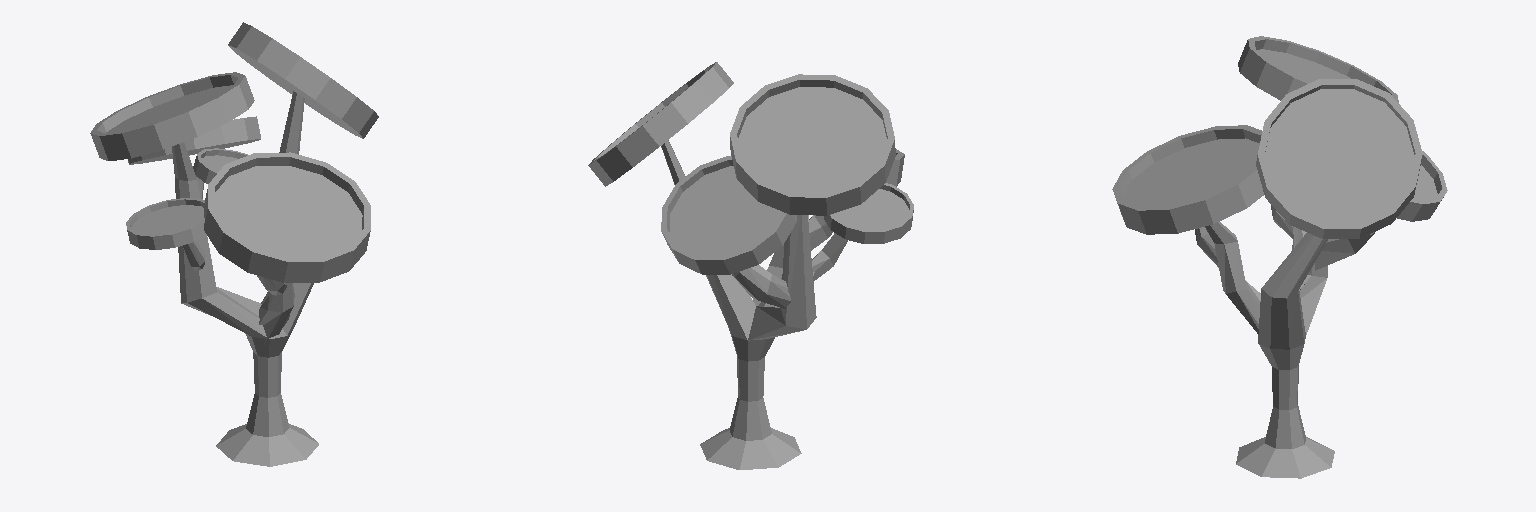
The model's file is tree5.obj.
3 views of the same model, side by side, from view 1: azimuth 30°, elevation 25°; view 2: azimuth 150°, elevation 25°; view 3: azimuth 270°, elevation 25° (orthographic).
Parts seen in each view (by area): view 1: Cylinder.003_Cylinder.011; view 2: Cylinder.003_Cylinder.011; view 3: Cylinder.003_Cylinder.011.
Part boxes in pixels (left/top/right/bottom): Cylinder.003_Cylinder.011: left=90, top=22, right=378, bottom=466; Cylinder.003_Cylinder.011: left=588, top=62, right=913, bottom=469; Cylinder.003_Cylinder.011: left=1112, top=36, right=1447, bottom=478.
Bounding box in the file's own units: 10.16 × 13.81 × 10.79.